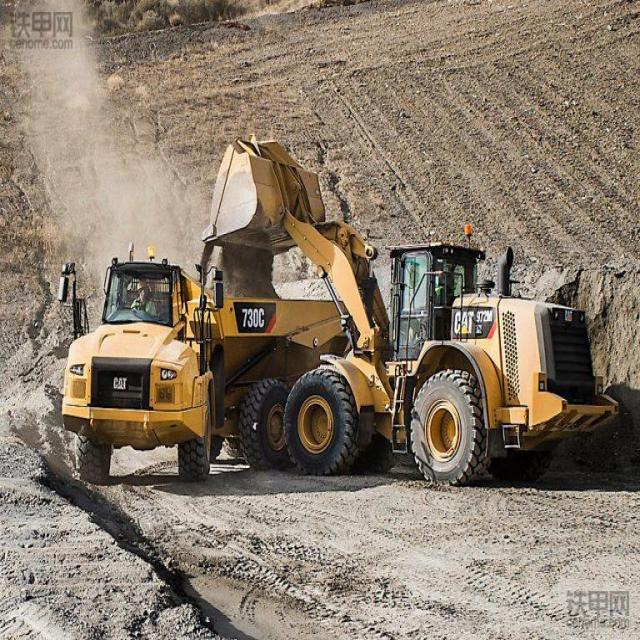buldozerpayloadergrader: (199, 120, 618, 490)
dump_truck: (60, 241, 322, 506)
